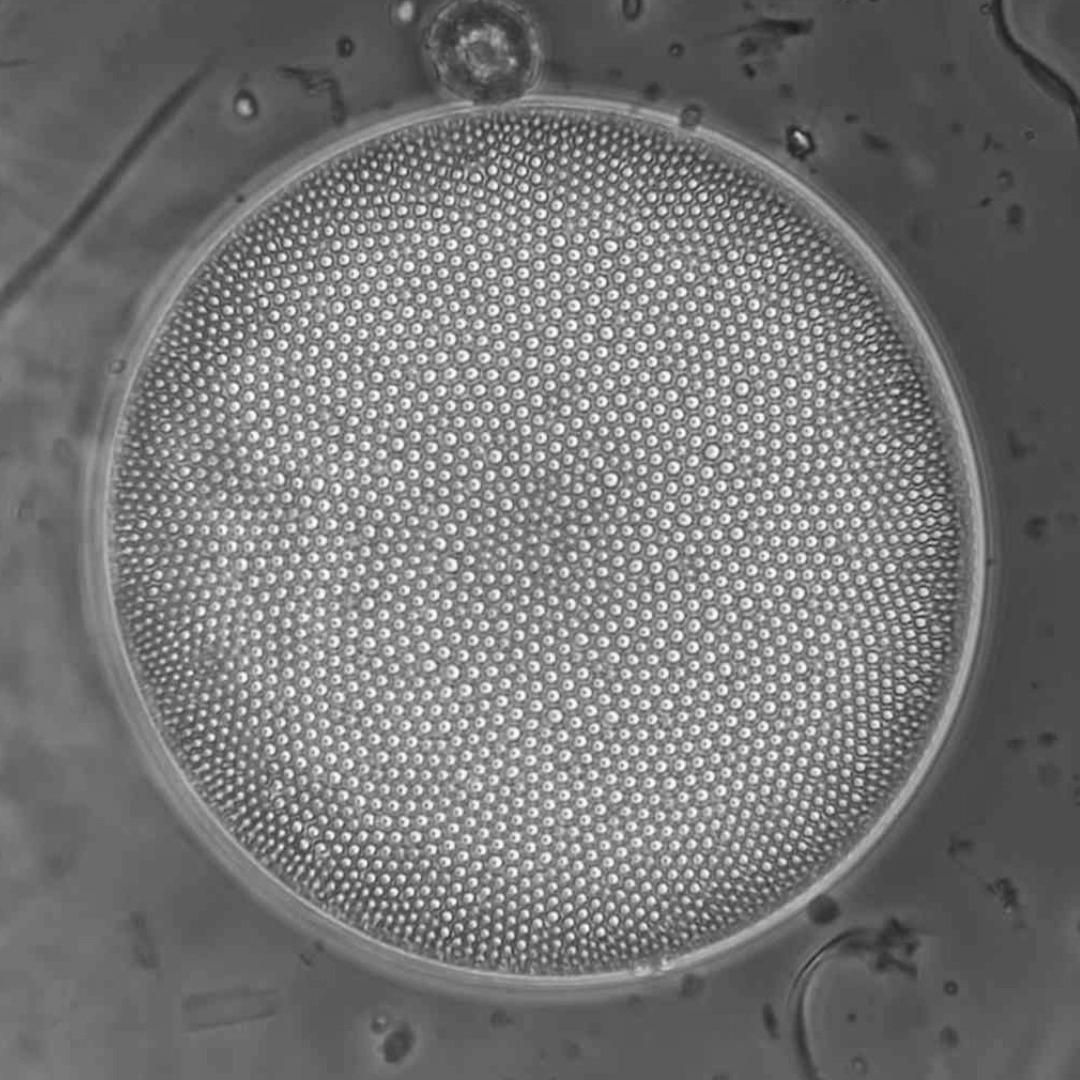coscinodiscus_oculus_iridis: (97, 91, 987, 989)
